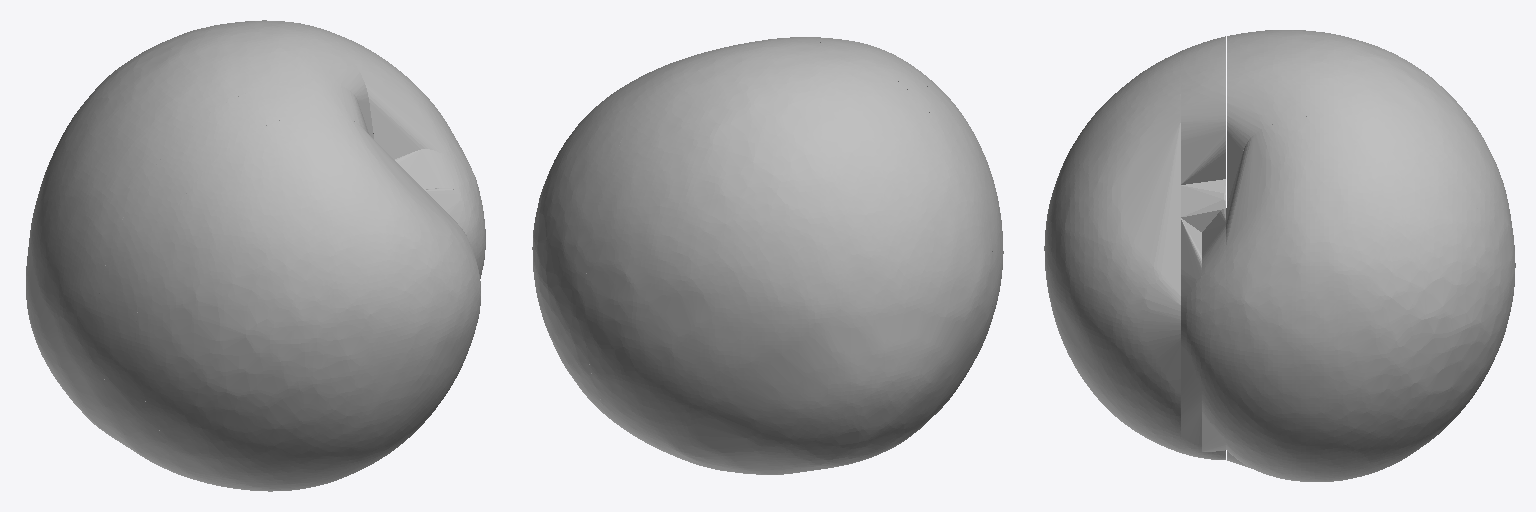
URDF robot description (root):
<robot name="root">
  <link name="link_coacd_convex_piece_0">
    <inertial>
      <origin xyz="0 0 0" rpy="0 0 0"/>
      <inertia ixx="2.70E-01" ixy="-2.05E-02" ixz="3.08E-03" iyy="1.23E-01" iyz="-1.23E-02" izz="2.65E-01"/>
    </inertial>
    <visual>
      <origin xyz="0 0 0" rpy="0 0 0"/>
      <geometry>
        <mesh filename="coacd_convex_piece_0.obj" scale="1.0000E+00 1.0000E+00 1.0000E+00"/>
      </geometry>
      <material name="">
        <color rgba="7.50E-01 7.50E-01 7.50E-01 1"/>
      </material>
    </visual>
    <collision>
      <origin xyz="0 0 0" rpy="0 0 0"/>
      <geometry>
        <mesh filename="coacd_convex_piece_0.obj" scale="1.0000E+00 1.0000E+00 1.0000E+00"/>
      </geometry>
    </collision>
  </link>
  <link name="link_coacd_convex_piece_1">
    <inertial>
      <origin xyz="0 0 0" rpy="0 0 0"/>
      <inertia ixx="1.17E-01" ixy="-6.33E-02" ixz="9.34E-03" iyy="2.32E-01" iyz="1.42E-03" izz="2.32E-01"/>
    </inertial>
    <visual>
      <origin xyz="0 0 0" rpy="0 0 0"/>
      <geometry>
        <mesh filename="coacd_convex_piece_1.obj" scale="1.0000E+00 1.0000E+00 1.0000E+00"/>
      </geometry>
      <material name="">
        <color rgba="7.50E-01 7.50E-01 7.50E-01 1"/>
      </material>
    </visual>
    <collision>
      <origin xyz="0 0 0" rpy="0 0 0"/>
      <geometry>
        <mesh filename="coacd_convex_piece_1.obj" scale="1.0000E+00 1.0000E+00 1.0000E+00"/>
      </geometry>
    </collision>
  </link>
  <joint name="link_coacd_convex_piece_1_joint" type="fixed">
    <origin xyz="0 0 0" rpy="0 0 0"/>
    <parent link="link_coacd_convex_piece_0"/>
    <child link="link_coacd_convex_piece_1"/>
  </joint>
  <link name="link_coacd_convex_piece_2">
    <inertial>
      <origin xyz="0 0 0" rpy="0 0 0"/>
      <inertia ixx="5.46E-01" ixy="4.90E-02" ixz="-5.70E-03" iyy="5.24E-01" iyz="4.02E-03" izz="4.69E-01"/>
    </inertial>
    <visual>
      <origin xyz="0 0 0" rpy="0 0 0"/>
      <geometry>
        <mesh filename="coacd_convex_piece_2.obj" scale="1.0000E+00 1.0000E+00 1.0000E+00"/>
      </geometry>
      <material name="">
        <color rgba="7.50E-01 7.50E-01 7.50E-01 1"/>
      </material>
    </visual>
    <collision>
      <origin xyz="0 0 0" rpy="0 0 0"/>
      <geometry>
        <mesh filename="coacd_convex_piece_2.obj" scale="1.0000E+00 1.0000E+00 1.0000E+00"/>
      </geometry>
    </collision>
  </link>
  <joint name="link_coacd_convex_piece_2_joint" type="fixed">
    <origin xyz="0 0 0" rpy="0 0 0"/>
    <parent link="link_coacd_convex_piece_1"/>
    <child link="link_coacd_convex_piece_2"/>
  </joint>
  <link name="link_coacd_convex_piece_3">
    <inertial>
      <origin xyz="0 0 0" rpy="0 0 0"/>
      <inertia ixx="4.08E-03" ixy="3.89E-03" ixz="1.33E-03" iyy="7.51E-03" iyz="-9.67E-04" izz="8.65E-03"/>
    </inertial>
    <visual>
      <origin xyz="0 0 0" rpy="0 0 0"/>
      <geometry>
        <mesh filename="coacd_convex_piece_3.obj" scale="1.0000E+00 1.0000E+00 1.0000E+00"/>
      </geometry>
      <material name="">
        <color rgba="7.50E-01 7.50E-01 7.50E-01 1"/>
      </material>
    </visual>
    <collision>
      <origin xyz="0 0 0" rpy="0 0 0"/>
      <geometry>
        <mesh filename="coacd_convex_piece_3.obj" scale="1.0000E+00 1.0000E+00 1.0000E+00"/>
      </geometry>
    </collision>
  </link>
  <joint name="link_coacd_convex_piece_3_joint" type="fixed">
    <origin xyz="0 0 0" rpy="0 0 0"/>
    <parent link="link_coacd_convex_piece_2"/>
    <child link="link_coacd_convex_piece_3"/>
  </joint>
  <link name="link_coacd_convex_piece_4">
    <inertial>
      <origin xyz="0 0 0" rpy="0 0 0"/>
      <inertia ixx="4.71E-03" ixy="4.79E-03" ixz="1.92E-03" iyy="1.34E-02" iyz="-9.90E-04" izz="1.32E-02"/>
    </inertial>
    <visual>
      <origin xyz="0 0 0" rpy="0 0 0"/>
      <geometry>
        <mesh filename="coacd_convex_piece_4.obj" scale="1.0000E+00 1.0000E+00 1.0000E+00"/>
      </geometry>
      <material name="">
        <color rgba="7.50E-01 7.50E-01 7.50E-01 1"/>
      </material>
    </visual>
    <collision>
      <origin xyz="0 0 0" rpy="0 0 0"/>
      <geometry>
        <mesh filename="coacd_convex_piece_4.obj" scale="1.0000E+00 1.0000E+00 1.0000E+00"/>
      </geometry>
    </collision>
  </link>
  <joint name="link_coacd_convex_piece_4_joint" type="fixed">
    <origin xyz="0 0 0" rpy="0 0 0"/>
    <parent link="link_coacd_convex_piece_3"/>
    <child link="link_coacd_convex_piece_4"/>
  </joint>
  <link name="link_coacd_convex_piece_5">
    <inertial>
      <origin xyz="0 0 0" rpy="0 0 0"/>
      <inertia ixx="2.29E-02" ixy="-2.60E-03" ixz="4.96E-03" iyy="2.27E-02" iyz="8.89E-03" izz="9.04E-03"/>
    </inertial>
    <visual>
      <origin xyz="0 0 0" rpy="0 0 0"/>
      <geometry>
        <mesh filename="coacd_convex_piece_5.obj" scale="1.0000E+00 1.0000E+00 1.0000E+00"/>
      </geometry>
      <material name="">
        <color rgba="7.50E-01 7.50E-01 7.50E-01 1"/>
      </material>
    </visual>
    <collision>
      <origin xyz="0 0 0" rpy="0 0 0"/>
      <geometry>
        <mesh filename="coacd_convex_piece_5.obj" scale="1.0000E+00 1.0000E+00 1.0000E+00"/>
      </geometry>
    </collision>
  </link>
  <joint name="link_coacd_convex_piece_5_joint" type="fixed">
    <origin xyz="0 0 0" rpy="0 0 0"/>
    <parent link="link_coacd_convex_piece_4"/>
    <child link="link_coacd_convex_piece_5"/>
  </joint>
  <link name="link_coacd_convex_piece_6">
    <inertial>
      <origin xyz="0 0 0" rpy="0 0 0"/>
      <inertia ixx="6.01E-02" ixy="-1.54E-02" ixz="-4.93E-03" iyy="7.44E-02" iyz="-1.23E-02" izz="6.10E-02"/>
    </inertial>
    <visual>
      <origin xyz="0 0 0" rpy="0 0 0"/>
      <geometry>
        <mesh filename="coacd_convex_piece_6.obj" scale="1.0000E+00 1.0000E+00 1.0000E+00"/>
      </geometry>
      <material name="">
        <color rgba="7.50E-01 7.50E-01 7.50E-01 1"/>
      </material>
    </visual>
    <collision>
      <origin xyz="0 0 0" rpy="0 0 0"/>
      <geometry>
        <mesh filename="coacd_convex_piece_6.obj" scale="1.0000E+00 1.0000E+00 1.0000E+00"/>
      </geometry>
    </collision>
  </link>
  <joint name="link_coacd_convex_piece_6_joint" type="fixed">
    <origin xyz="0 0 0" rpy="0 0 0"/>
    <parent link="link_coacd_convex_piece_5"/>
    <child link="link_coacd_convex_piece_6"/>
  </joint>
</robot>

--- Facts derived from the render (not from the file) ---
3 views of the same robot in one strip: view 1: azimuth 30°, elevation 25°; view 2: azimuth 150°, elevation 25°; view 3: azimuth 270°, elevation 25° (orthographic).
Robot: root — 7 links, 6 joints (6 fixed); root link link_coacd_convex_piece_0; default pose: all joints at 0.
Links seen in each view (by area): view 1: link_coacd_convex_piece_0, link_coacd_convex_piece_2, link_coacd_convex_piece_5, link_coacd_convex_piece_6, link_coacd_convex_piece_1, link_coacd_convex_piece_4, link_coacd_convex_piece_3; view 2: link_coacd_convex_piece_2, link_coacd_convex_piece_1, link_coacd_convex_piece_5, link_coacd_convex_piece_6, link_coacd_convex_piece_0; view 3: link_coacd_convex_piece_1, link_coacd_convex_piece_0, link_coacd_convex_piece_2, link_coacd_convex_piece_5, link_coacd_convex_piece_4, link_coacd_convex_piece_3, link_coacd_convex_piece_6.
Link boxes in pixels (left/top/right/bottom): link_coacd_convex_piece_0: left=135, top=113, right=480, bottom=490; link_coacd_convex_piece_2: left=26, top=20, right=373, bottom=474; link_coacd_convex_piece_5: left=126, top=79, right=369, bottom=225; link_coacd_convex_piece_6: left=97, top=213, right=272, bottom=491; link_coacd_convex_piece_1: left=313, top=26, right=483, bottom=211; link_coacd_convex_piece_4: left=395, top=149, right=485, bottom=278; link_coacd_convex_piece_3: left=425, top=188, right=483, bottom=274; link_coacd_convex_piece_2: left=584, top=38, right=993, bottom=474; link_coacd_convex_piece_1: left=532, top=59, right=682, bottom=424; link_coacd_convex_piece_5: left=790, top=37, right=971, bottom=166; link_coacd_convex_piece_6: left=966, top=147, right=1002, bottom=366; link_coacd_convex_piece_0: left=841, top=39, right=1003, bottom=278; link_coacd_convex_piece_1: left=1226, top=116, right=1502, bottom=481; link_coacd_convex_piece_0: left=1044, top=51, right=1180, bottom=452; link_coacd_convex_piece_2: left=1227, top=30, right=1515, bottom=467; link_coacd_convex_piece_5: left=1181, top=36, right=1225, bottom=184; link_coacd_convex_piece_4: left=1202, top=209, right=1225, bottom=451; link_coacd_convex_piece_3: left=1181, top=218, right=1201, bottom=451; link_coacd_convex_piece_6: left=1181, top=179, right=1225, bottom=459.
Size in the robot's own frame: 1.86 by 1.88 by 1.76 metres.
Meshes: 7 distinct files referenced, 7 mesh visuals loaded (7 OBJ).